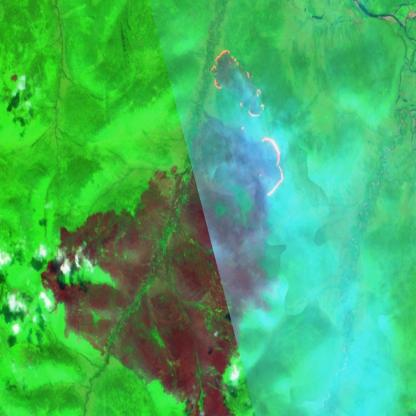fire: (209, 46, 288, 200)
